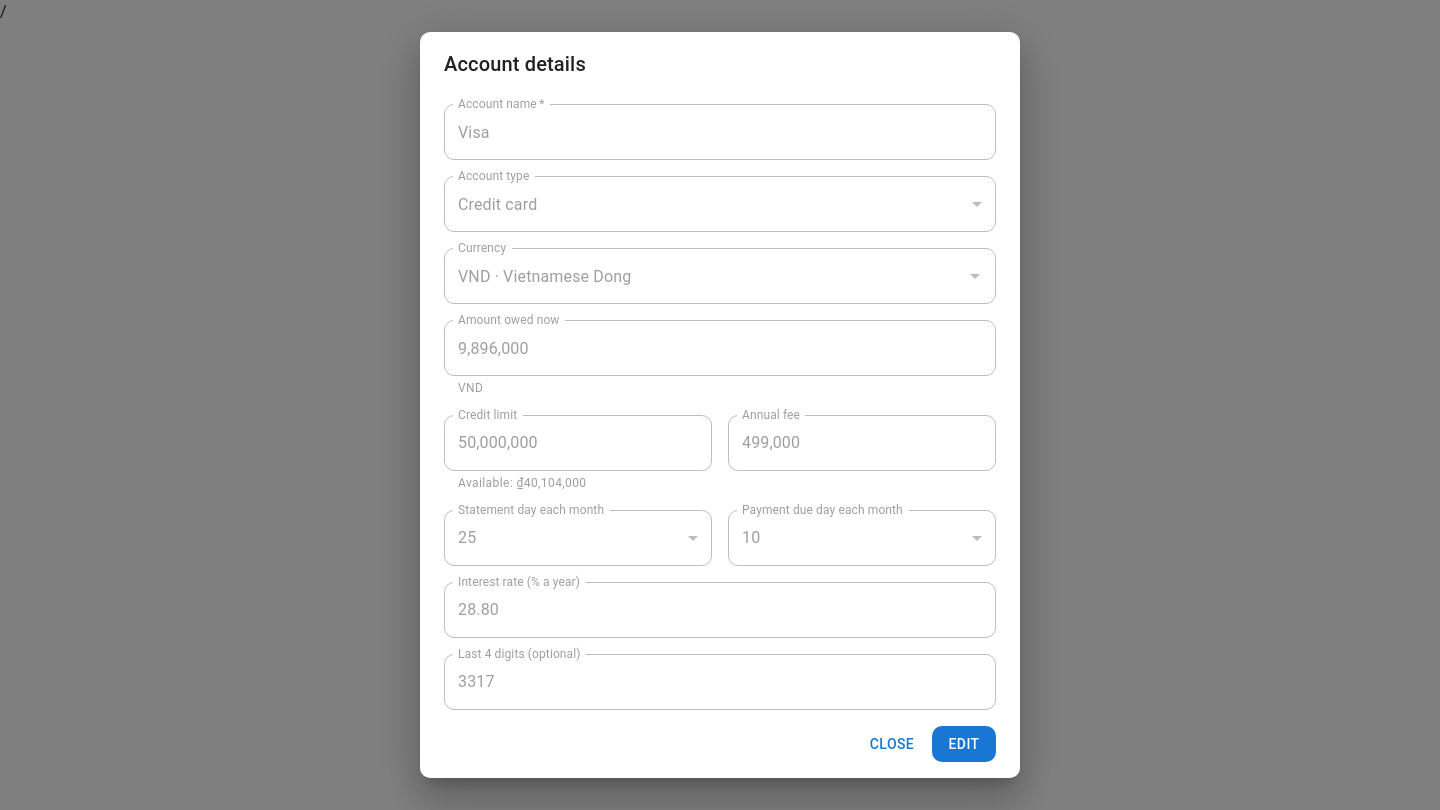
Test: account details (waterflow#23) › opens greyed out; Edit turns the fields on without saving anything
This screenshot has width=1440, height=810.
Expected: the heading "Account details" is shown, [444,52,586,76]
Expected: the field labelled "Account name *" is disabled, [444,104,996,160]
Click the button "Edit": (964, 744) [932,726,996,762]
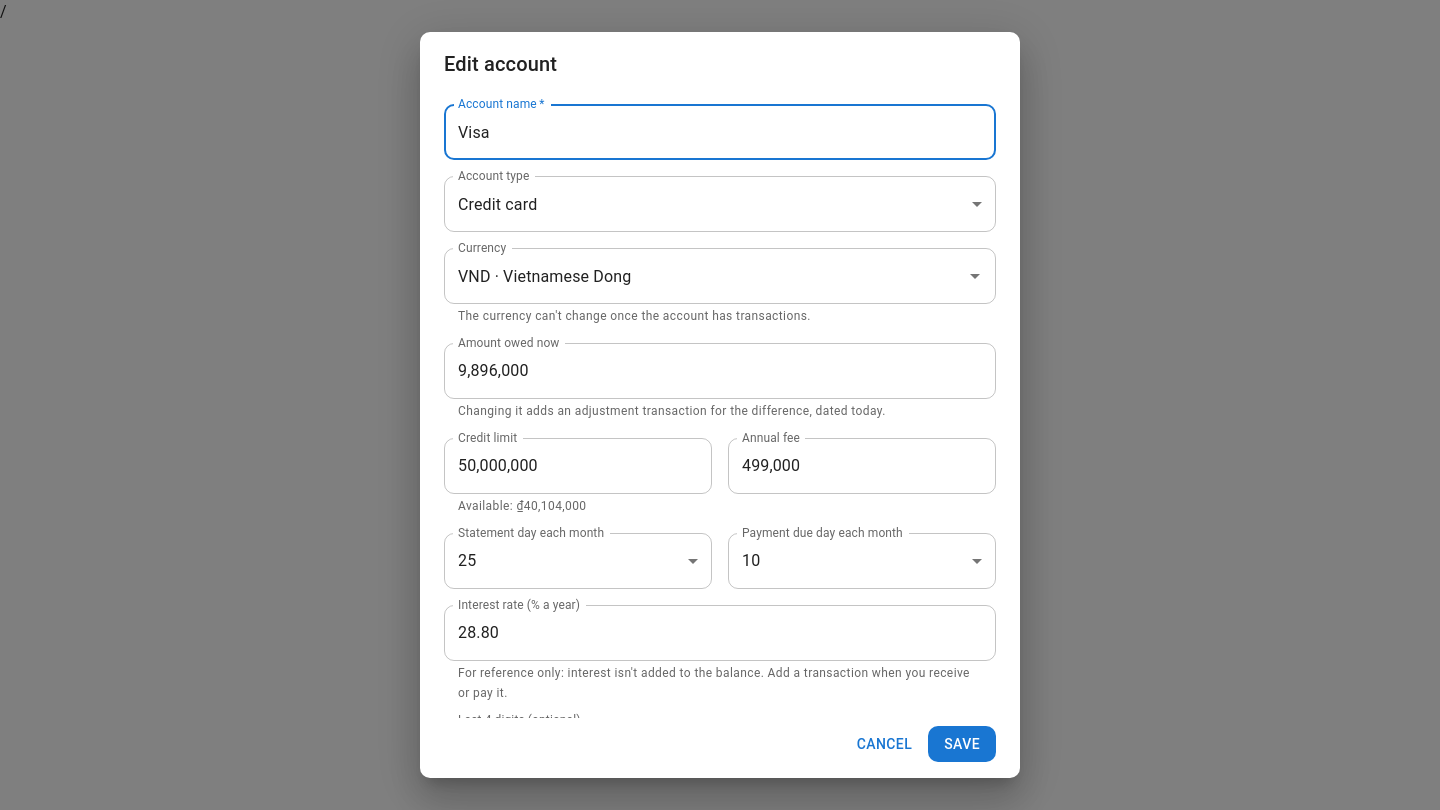
Now the heading "Edit account" is shown, box [444,52,557,76]
Now the field labelled "Account name *" is enabled, box [444,104,996,160]
Now the field labelled "Credit limit" is enabled, box [444,438,712,494]
